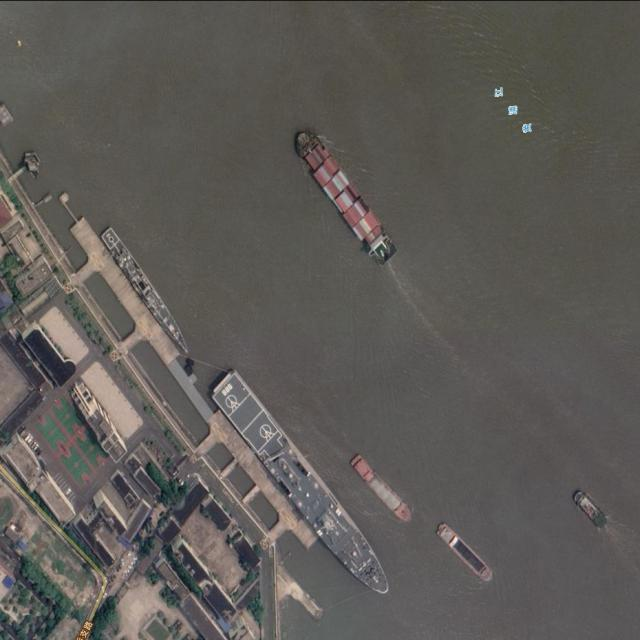Container Ship: (288, 124, 401, 266), (348, 453, 416, 527), (434, 520, 497, 585), (570, 488, 609, 529)
Frigate: (98, 226, 195, 356)
Landing: (202, 369, 402, 600)
